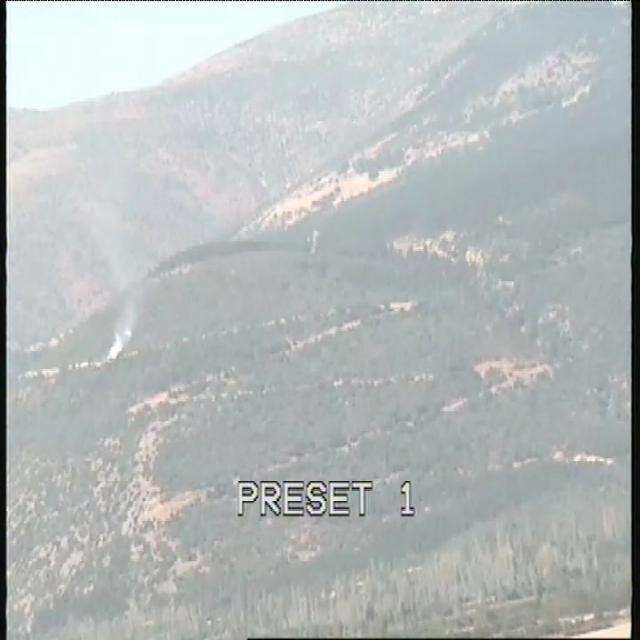smoke: (105, 311, 138, 362)
